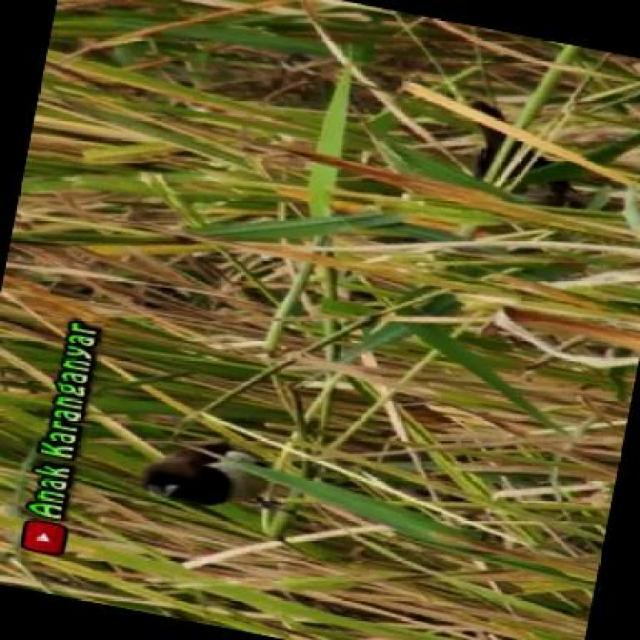Bird: (137, 421, 285, 519)
